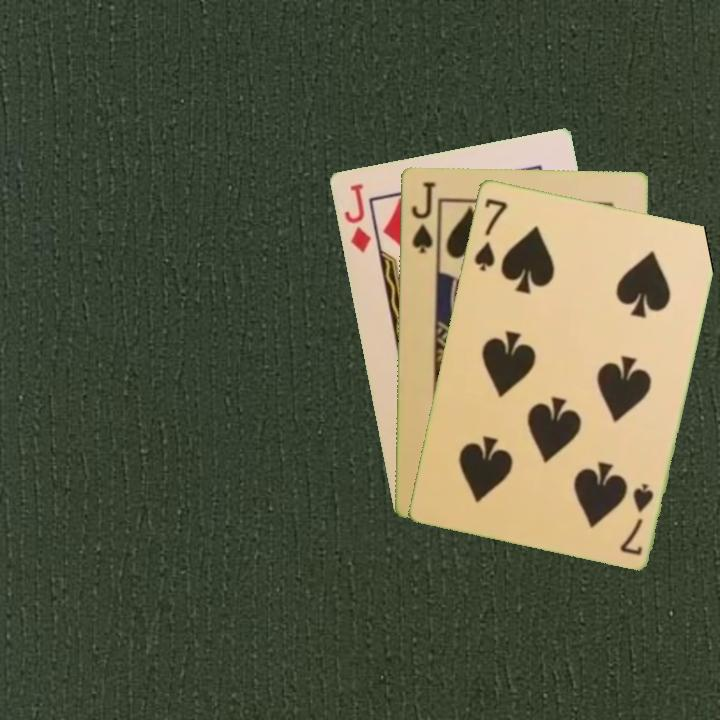7s: (470, 194, 510, 274), (616, 479, 656, 558)
Jd: (340, 179, 374, 255)
Js: (407, 177, 438, 256)
